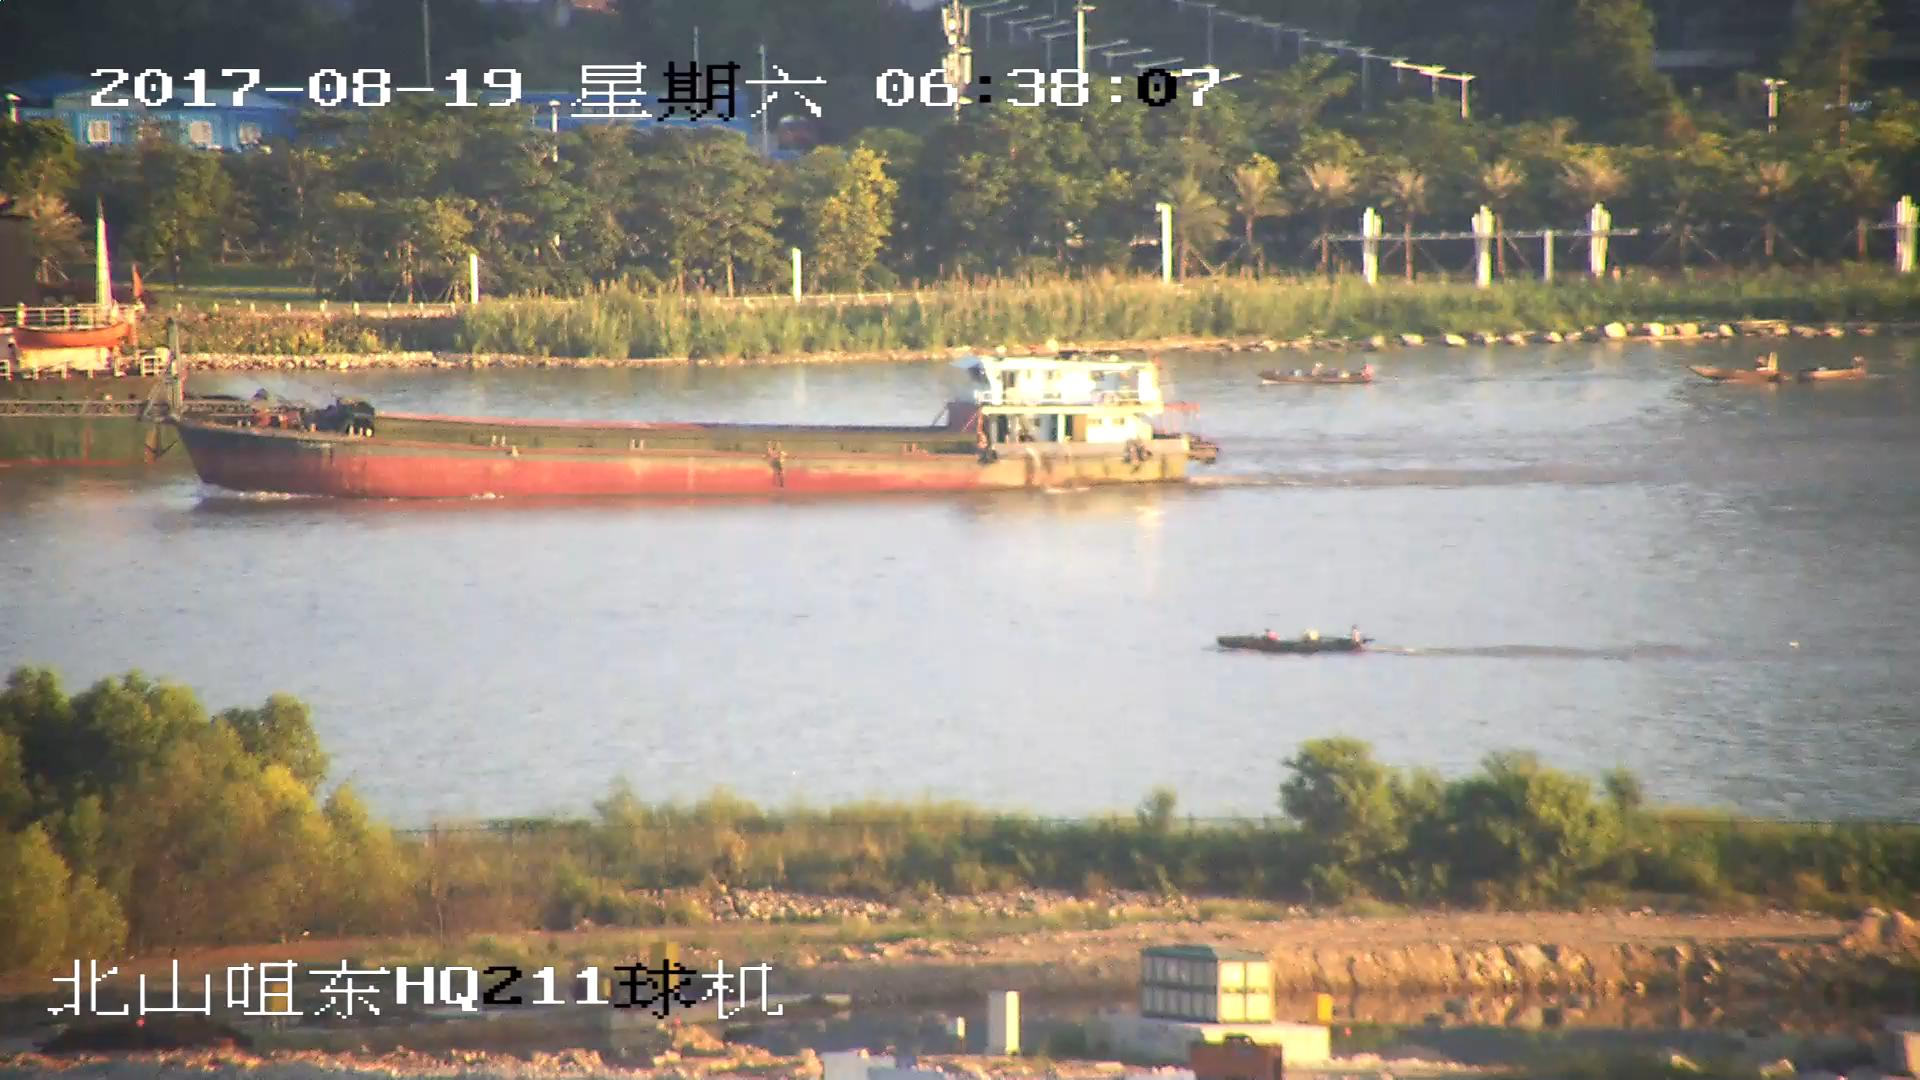bulk cargo carrier: (163, 321, 1207, 488)
fishing boat: (1694, 355, 1872, 388), (1224, 627, 1368, 656), (1264, 362, 1372, 392)
general cargo ship: (1, 299, 151, 464)
